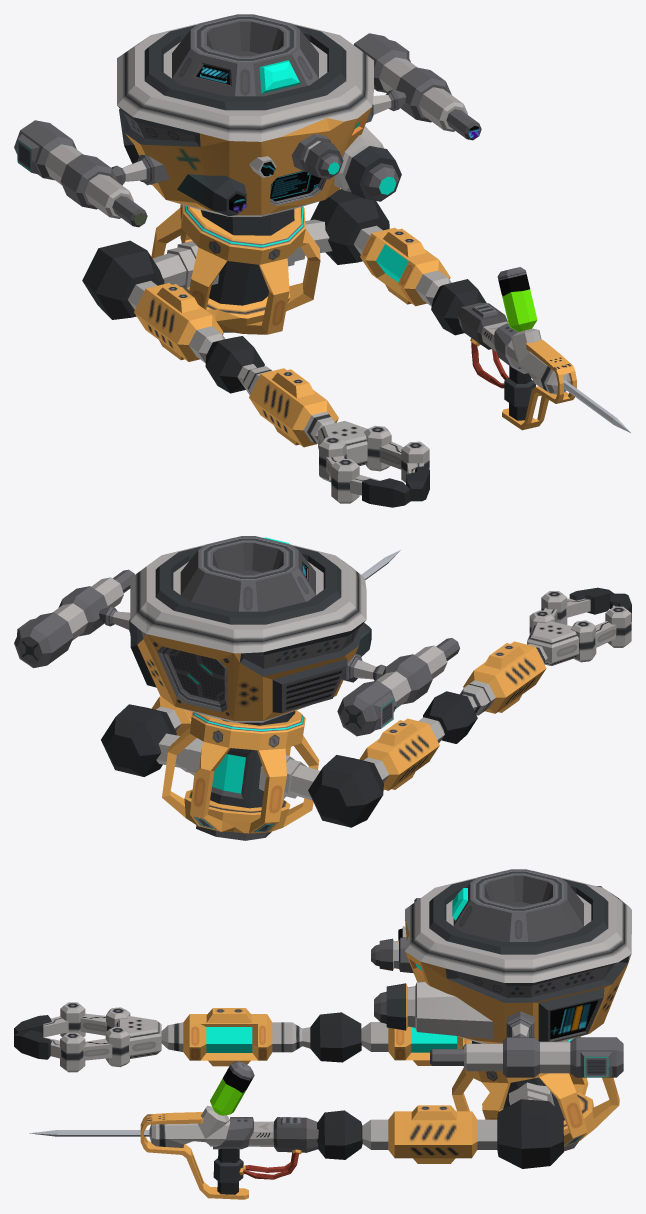
Rendered from SM_Prop_Drone_04.fbx.
3 renders of one model, top to bottom at view 1: azimuth 30°, elevation 25°; view 2: azimuth 150°, elevation 25°; view 3: azimuth 270°, elevation 25°, orthographic. The views are drawn at different scales.
Parts seen in each view (by area): view 1: SM_Prop_Drone_04, SM_Prop_Drone_04_LeftArm_02, SM_Prop_Drone_04_RightArm_02, SM_Prop_Drone_04_Claw_02, SM_Prop_Drone_04_Claw_01, SM_Prop_Drone_04_Swivel_01; view 2: SM_Prop_Drone_04, SM_Prop_Drone_04_RightArm_02, SM_Prop_Drone_04_Claw_02, SM_Prop_Drone_04_Claw_01, SM_Prop_Drone_04_Swivel_01; view 3: SM_Prop_Drone_04, SM_Prop_Drone_04_LeftArm_02, SM_Prop_Drone_04_RightArm_02, SM_Prop_Drone_04_Claw_01, SM_Prop_Drone_04_Claw_02, SM_Prop_Drone_04_Swivel_01.
Boxes of the visible parts, bbox=[...] form: SM_Prop_Drone_04: bbox=[14, 14, 481, 362]; SM_Prop_Drone_04_LeftArm_02: bbox=[431, 267, 630, 432]; SM_Prop_Drone_04_RightArm_02: bbox=[205, 336, 338, 447]; SM_Prop_Drone_04_Claw_02: bbox=[319, 436, 410, 507]; SM_Prop_Drone_04_Claw_01: bbox=[364, 425, 429, 501]; SM_Prop_Drone_04_Swivel_01: bbox=[318, 421, 367, 465]; SM_Prop_Drone_04: bbox=[14, 536, 459, 840]; SM_Prop_Drone_04_RightArm_02: bbox=[423, 641, 547, 743]; SM_Prop_Drone_04_Claw_02: bbox=[571, 593, 631, 662]; SM_Prop_Drone_04_Claw_01: bbox=[529, 587, 613, 633]; SM_Prop_Drone_04_Swivel_01: bbox=[527, 621, 579, 665]; SM_Prop_Drone_04: bbox=[361, 869, 631, 1168]; SM_Prop_Drone_04_LeftArm_02: bbox=[29, 1061, 362, 1199]; SM_Prop_Drone_04_RightArm_02: bbox=[161, 1008, 361, 1066]; SM_Prop_Drone_04_Claw_01: bbox=[14, 1026, 129, 1072]; SM_Prop_Drone_04_Claw_02: bbox=[14, 1002, 130, 1037]; SM_Prop_Drone_04_Swivel_01: bbox=[115, 1016, 161, 1058].
Bounding box in the file's own units: 124 × 88.8 × 193.
